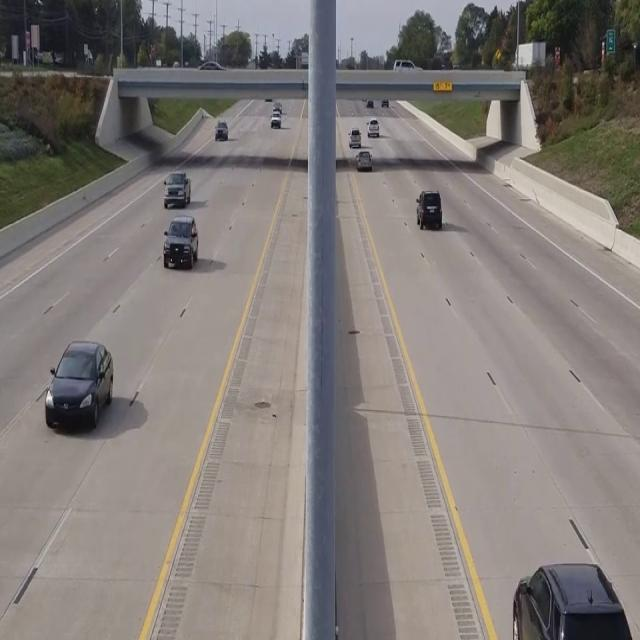car: (512, 560, 640, 640), (45, 339, 113, 430), (162, 216, 198, 269), (416, 190, 442, 230), (163, 171, 190, 207), (356, 149, 372, 171), (215, 120, 228, 140)
